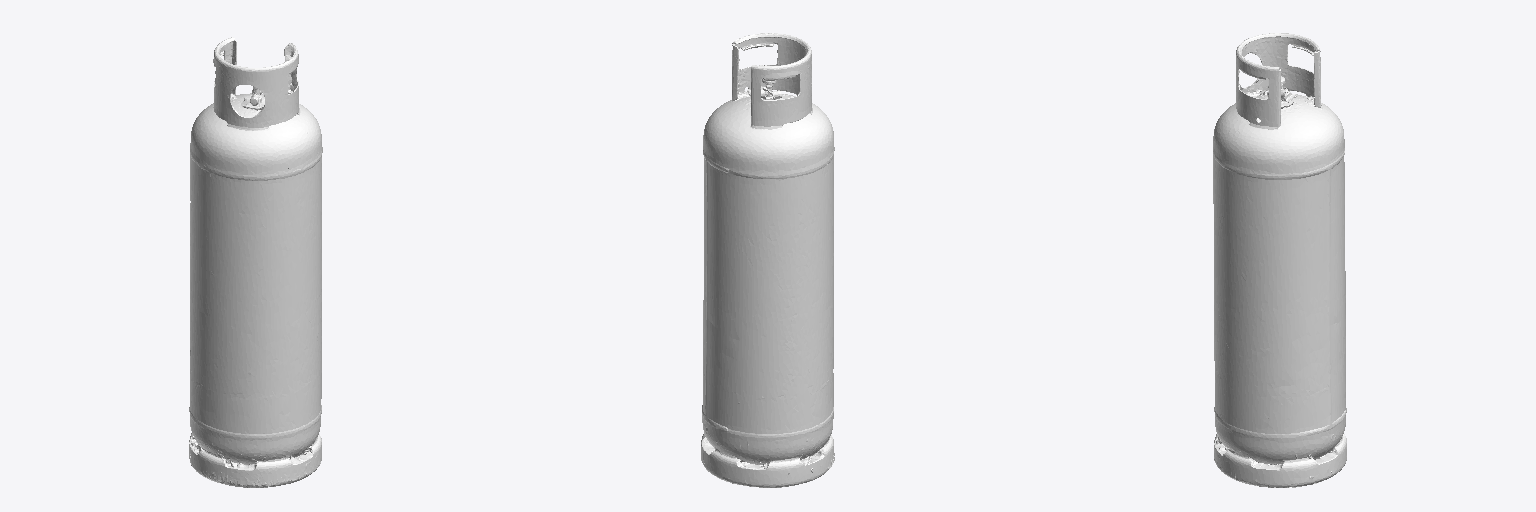
Rendered from Calor_gas.obj.
The picture shows the model from 3 angles: view 1: azimuth 30°, elevation 25°; view 2: azimuth 150°, elevation 25°; view 3: azimuth 270°, elevation 25°; orthographic projection.
Visible parts, largest first — view 1: default; view 2: default; view 3: default.
Part boxes in pixels (bbox=[...]): default: bbox=[189, 37, 322, 487]; default: bbox=[701, 33, 834, 487]; default: bbox=[1213, 33, 1346, 487].
Size of the model in its own units: 2.41 by 8.21 by 2.43.